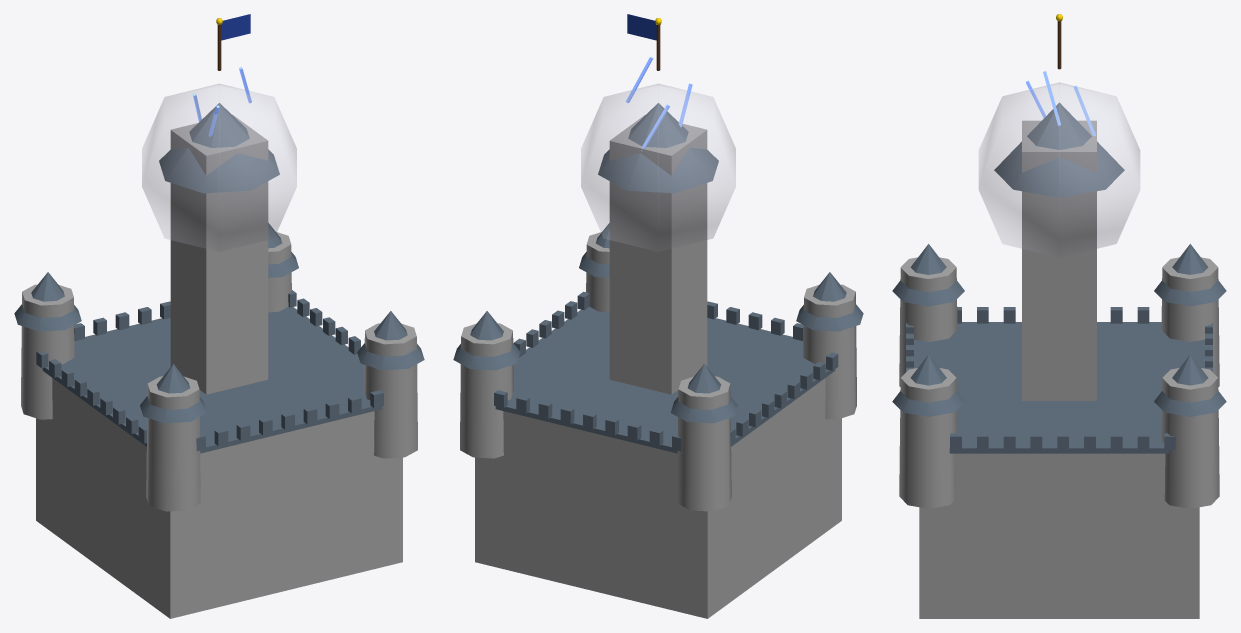
File: citadel_t4.glb
3 views of the same model, side by side, from view 1: azimuth 30°, elevation 25°; view 2: azimuth 150°, elevation 25°; view 3: azimuth 270°, elevation 25° (orthographic). The views are drawn at different scales.
Visible parts, largest first — view 1: building-citadel, flag; view 2: building-citadel, flag; view 3: building-citadel.
Boxes of the visible parts, x1,y1,x2,y2 form: building-citadel: [14, 67, 424, 618]; flag: [221, 14, 250, 40]; building-citadel: [453, 57, 863, 618]; flag: [627, 14, 656, 40]; building-citadel: [892, 71, 1226, 618].
Bounding box in the file's own units: 0.3372 × 0.6069 × 0.3372.
